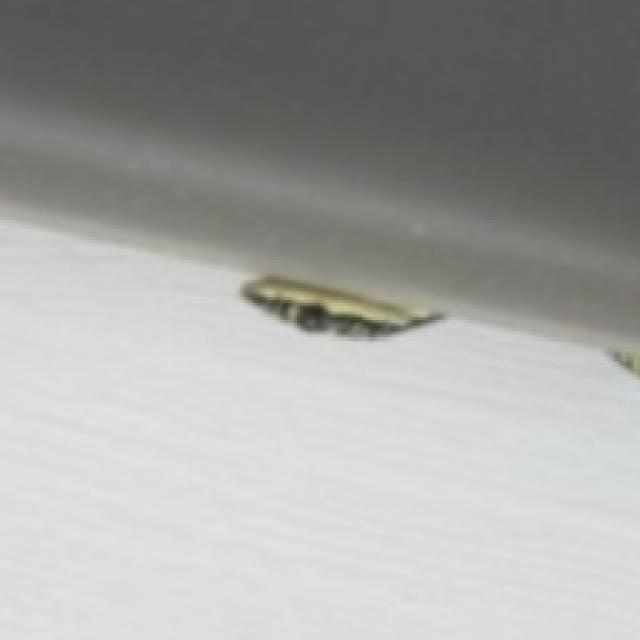paradise tree snake: (243, 274, 440, 334)
